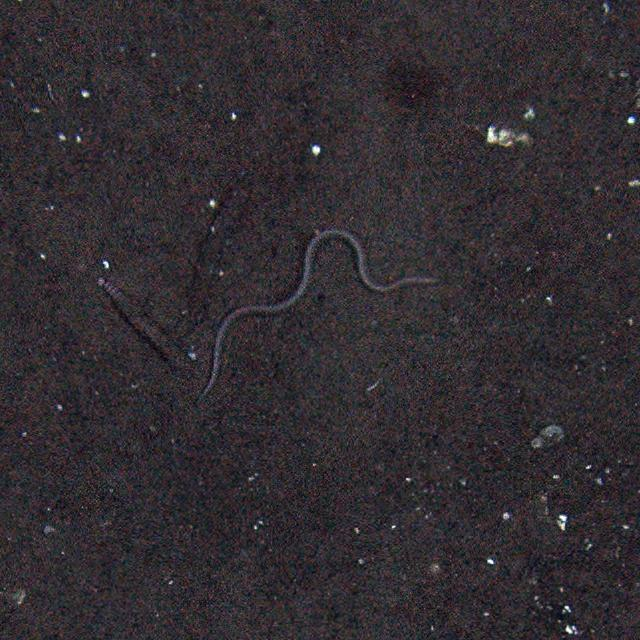eel: (192, 232, 440, 404)
